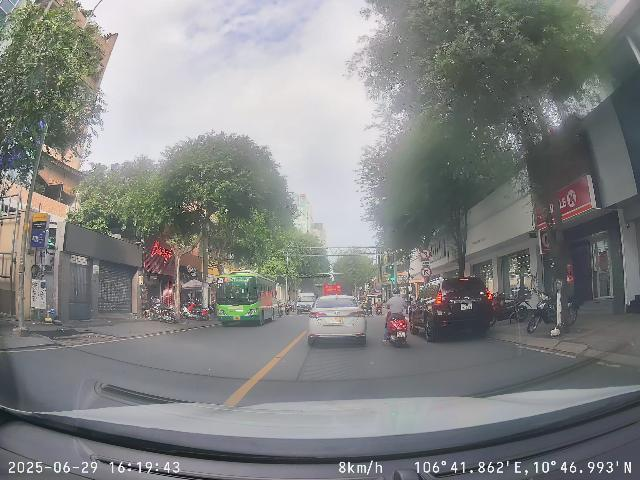123a-cam-re-trai: (420, 248, 431, 260)
123b-cam-re-phai: (420, 267, 432, 278)
